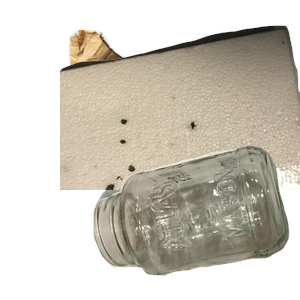cardboard: (66, 27, 242, 197)
glass: (91, 143, 300, 300)
plastic: (92, 176, 257, 300)
trash: (60, 23, 300, 203)
